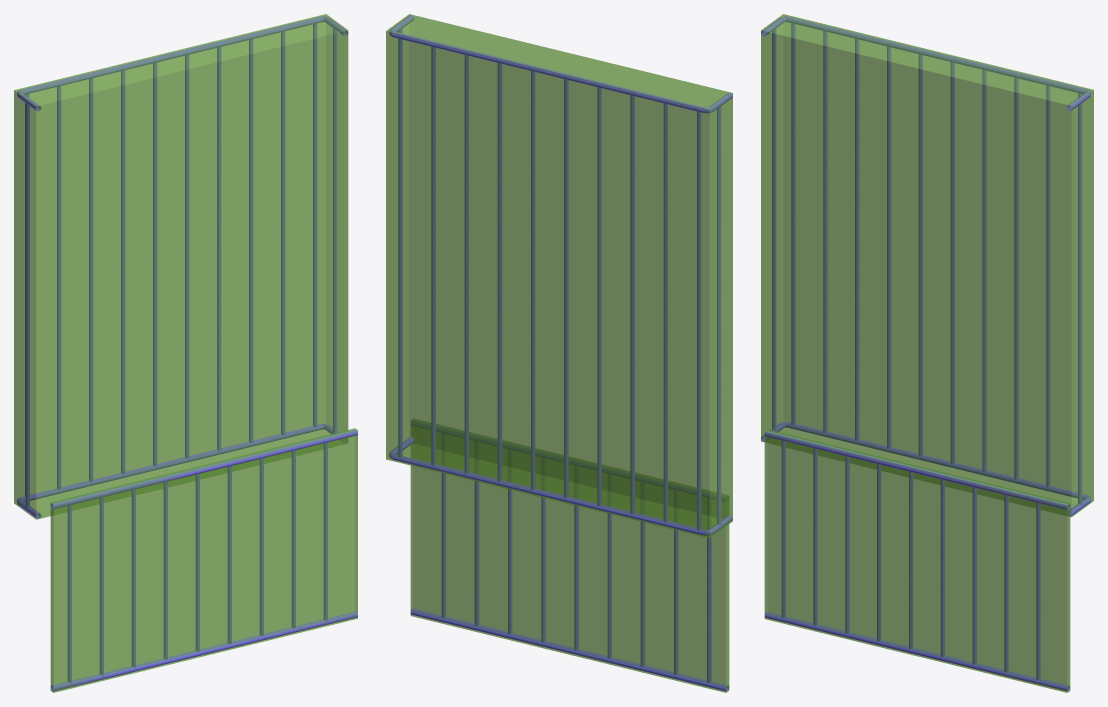
The model's file is F_Cage_L_01.fbx.
3 views of the same model, side by side, from view 1: azimuth 30°, elevation 25°; view 2: azimuth 150°, elevation 25°; view 3: azimuth 330°, elevation 25° (orthographic). The views are drawn at different scales.
Parts seen in each view (by area): view 1: F_Cage_L_01_col_02, F_Cage_L_01_col_01, F_Cage_L_01_LOD0; view 2: F_Cage_L_01_col_02, F_Cage_L_01_col_01, F_Cage_L_01_LOD0; view 3: F_Cage_L_01_col_02, F_Cage_L_01_col_01, F_Cage_L_01_LOD0.
Part boxes in pixels (left/top/right/bottom): F_Cage_L_01_col_02: left=14, top=14, right=348, bottom=519; F_Cage_L_01_col_01: left=50, top=428, right=357, bottom=692; F_Cage_L_01_LOD0: left=17, top=16, right=357, bottom=691; F_Cage_L_01_col_02: left=386, top=14, right=732, bottom=538; F_Cage_L_01_col_01: left=410, top=419, right=729, bottom=692; F_Cage_L_01_LOD0: left=389, top=15, right=732, bottom=691; F_Cage_L_01_col_02: left=761, top=14, right=1093, bottom=517; F_Cage_L_01_col_01: left=764, top=429, right=1070, bottom=692; F_Cage_L_01_LOD0: left=761, top=16, right=1090, bottom=691.
Size of what is drawn, in the model's own units: 175 by 310 by 28.14.
Materials: 2 (1 with a texture image).
